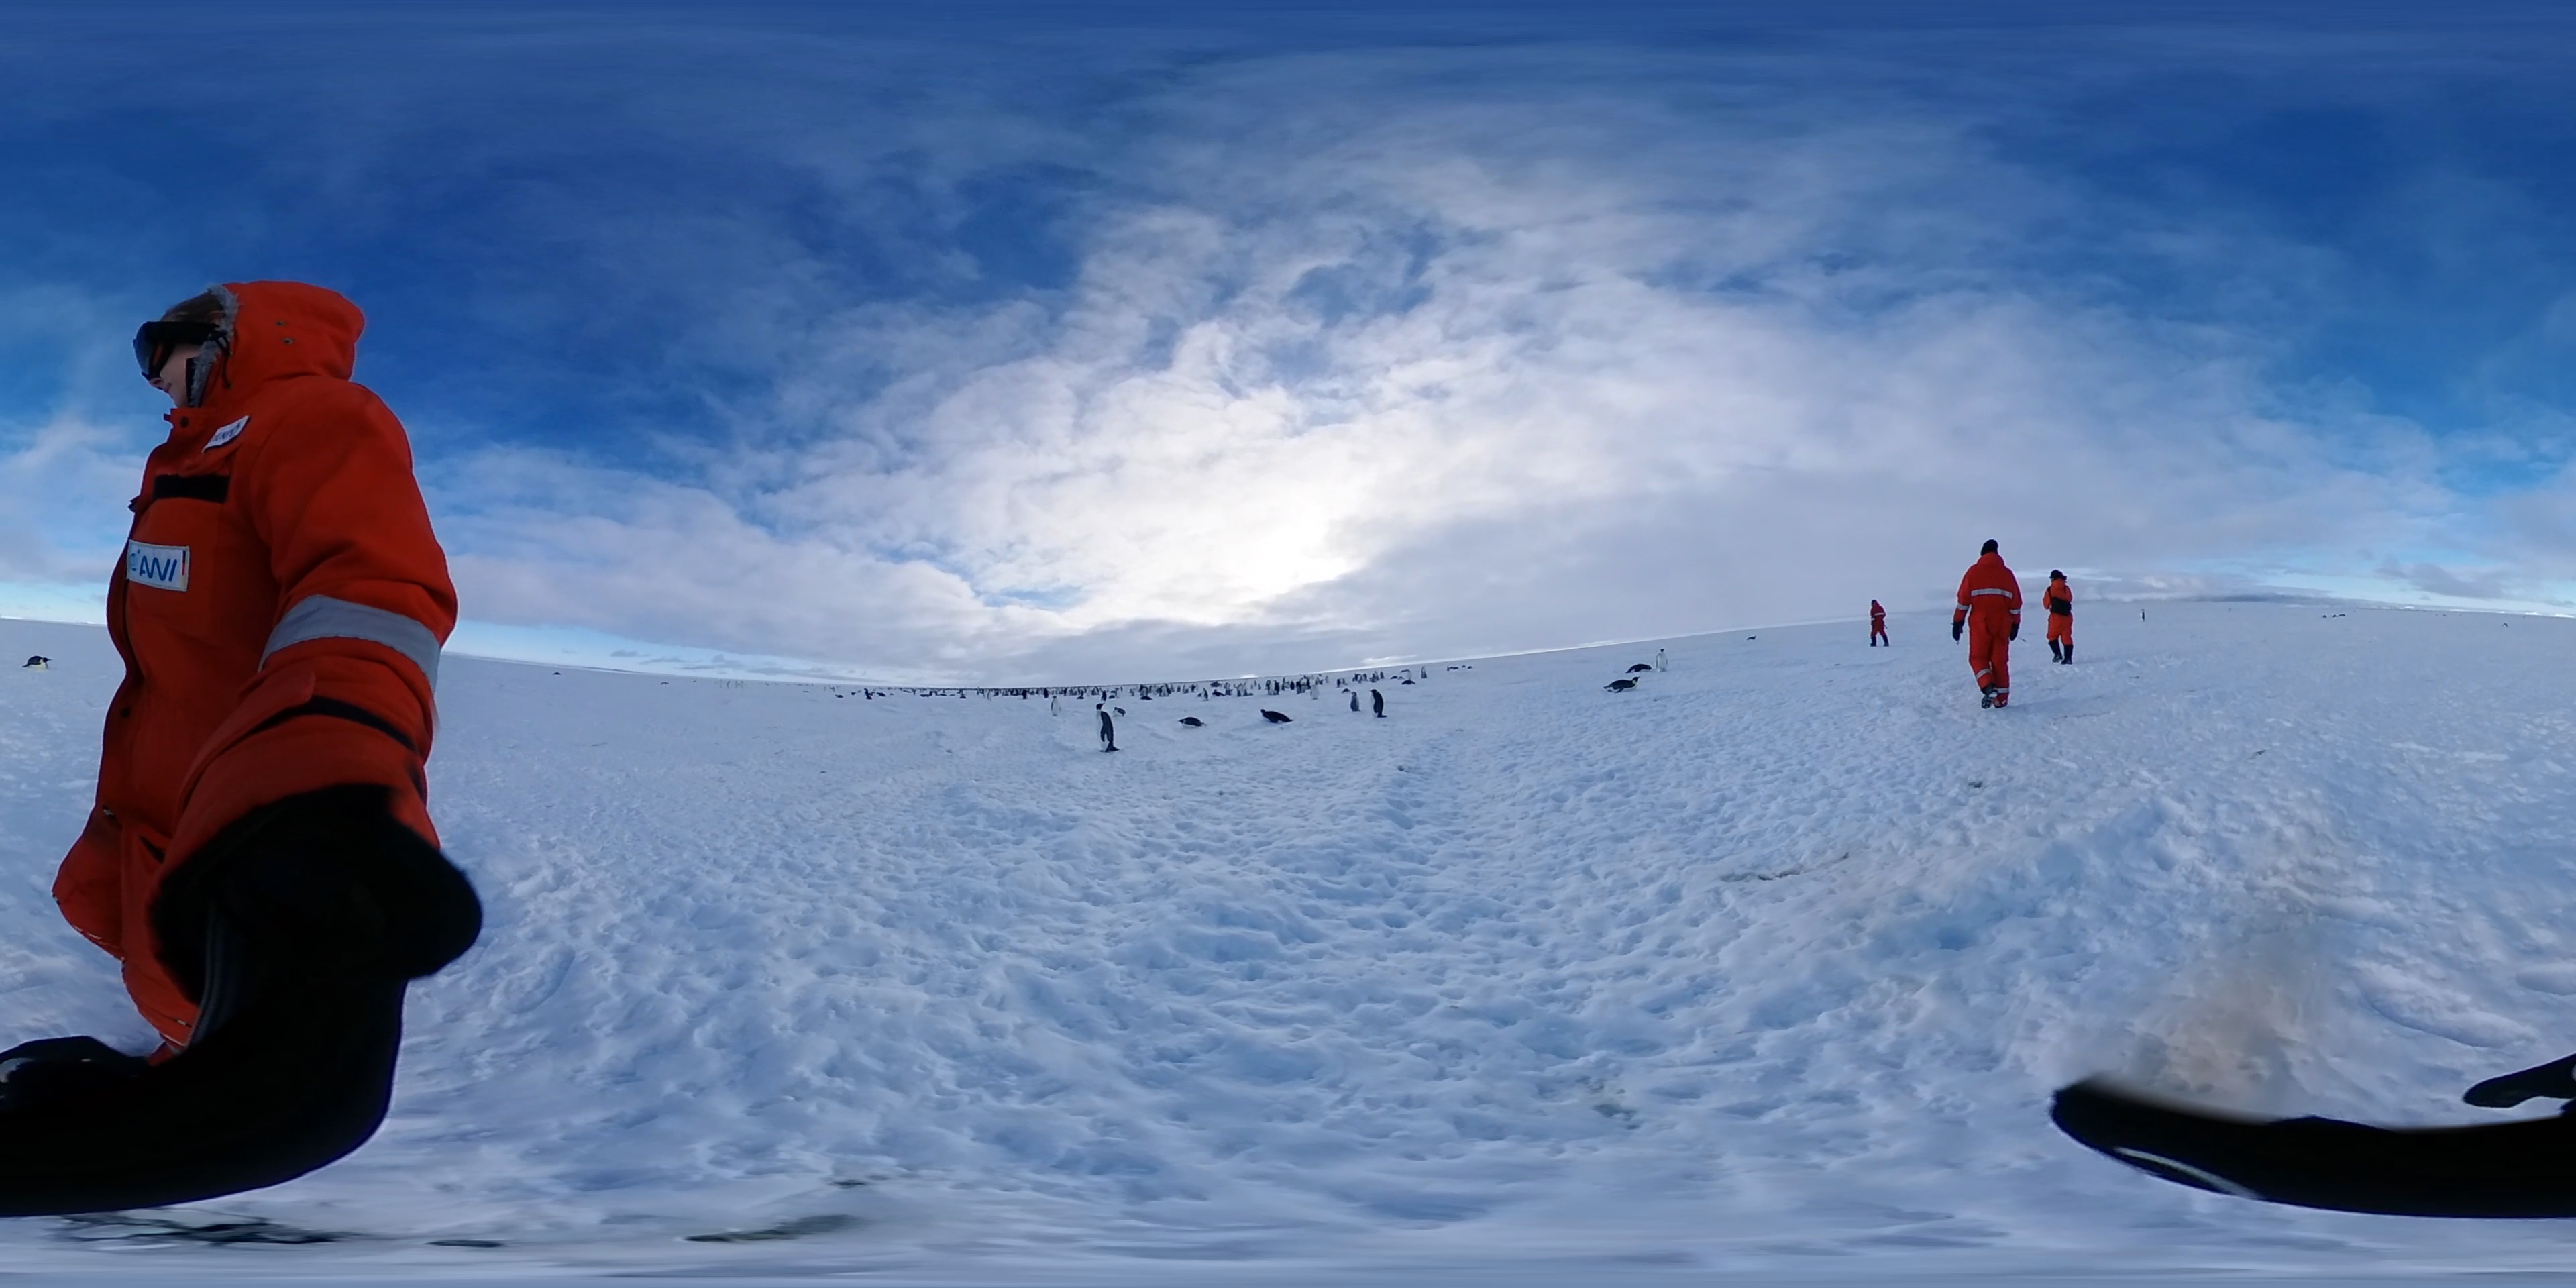adult_standing_penguin: (1091, 703, 1119, 756), (1367, 683, 1390, 724), (1048, 693, 1066, 721), (1654, 649, 1667, 674)
adult_toboggan_penguin: (20, 646, 57, 675), (1602, 675, 1641, 695), (1257, 706, 1296, 724), (1625, 662, 1648, 677), (1178, 715, 1206, 726), (1109, 708, 1127, 718)
juvenile_penguin: (1350, 688, 1362, 715)
researcher: (67, 269, 485, 1176), (1952, 532, 2022, 718), (2035, 568, 2080, 669), (1865, 598, 1897, 651)
